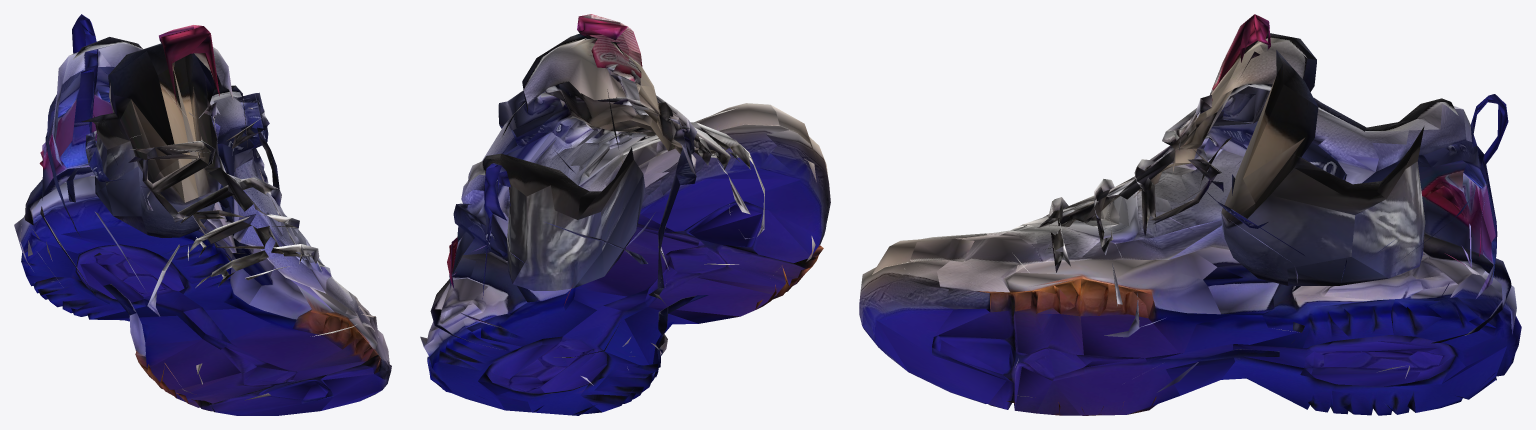
File: tenis_basket_rightFoot.glb
3 renders of one model, left to right at view 1: azimuth 30°, elevation 25°; view 2: azimuth 150°, elevation 25°; view 3: azimuth 270°, elevation 25°, orthographic. The views are drawn at different scales.
Parts seen in each view (by area): view 1: tenis_basket.001; view 2: tenis_basket.001; view 3: tenis_basket.001.
Boxes of the visible parts, x1,y1,x2,y2 form: tenis_basket.001: (14, 14, 391, 415); tenis_basket.001: (420, 14, 830, 415); tenis_basket.001: (859, 14, 1521, 415).
Size of the model in its own units: 0.1237 by 0.1722 by 0.2986.
1 material, 1 textured.
